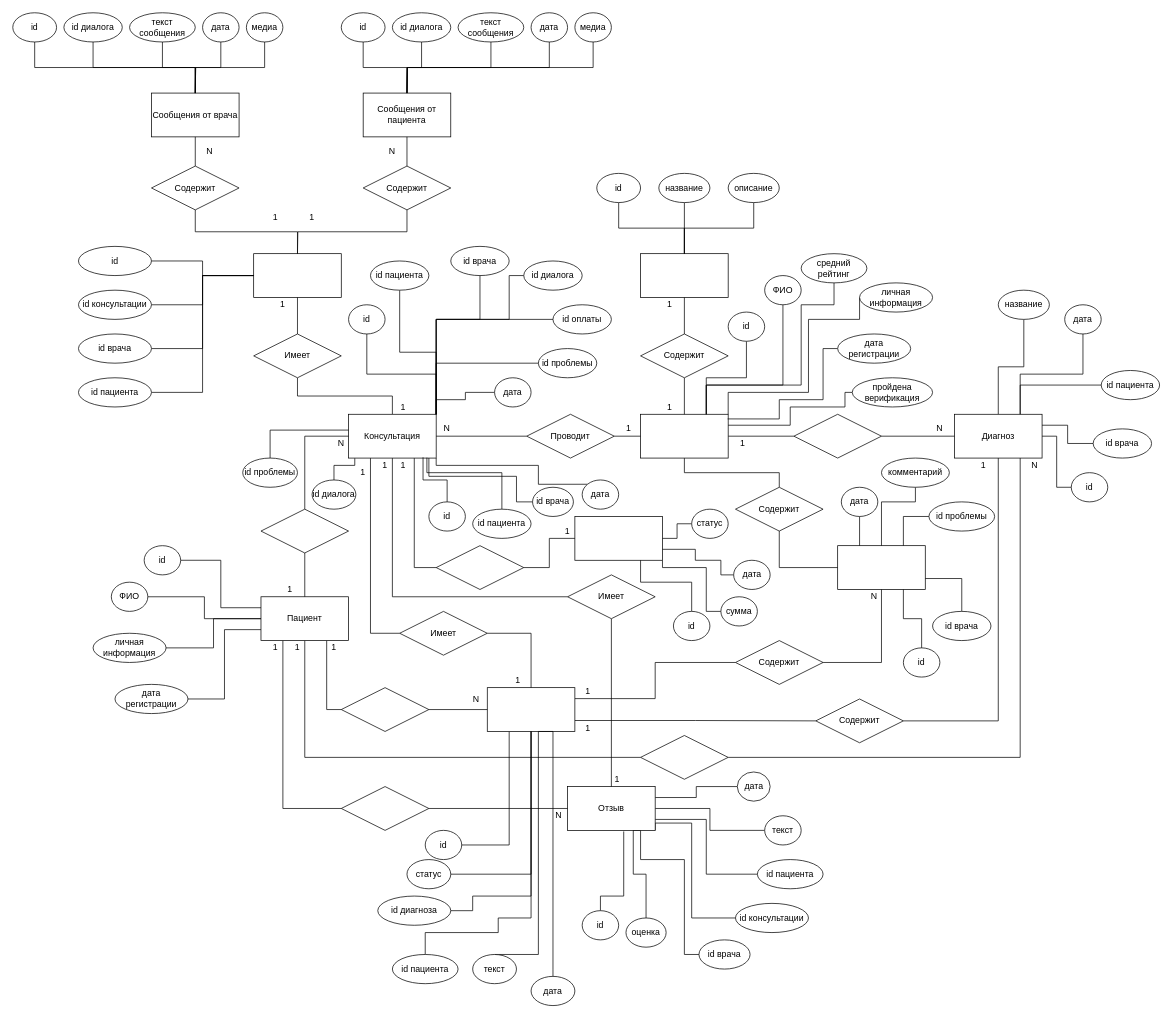
Some shapes in this 1172 by 1018 pixel diagram are drawn without their labels. Here are the shapes that lost their labels. From the top down, the centre of each, then its label:
At point 297,275: "Диалог".
At point 684,275: "Специализация".
At point 684,436: "Врач".
At point 837,436: "Выносит".
At point 304,530: "Участвует".
At point 618,538: "Оплата".
At point 479,567: "Использует".
At point 881,567: "Отклик врача".
At point 385,709: "Публикует".
At point 531,709: "Проблема".
At point 684,757: "Получает".
At point 385,808: "Оставляет".
